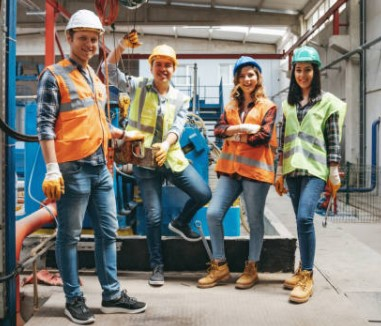worker: (45, 9, 110, 162), (281, 47, 347, 180), (129, 43, 192, 173), (216, 56, 277, 185)
